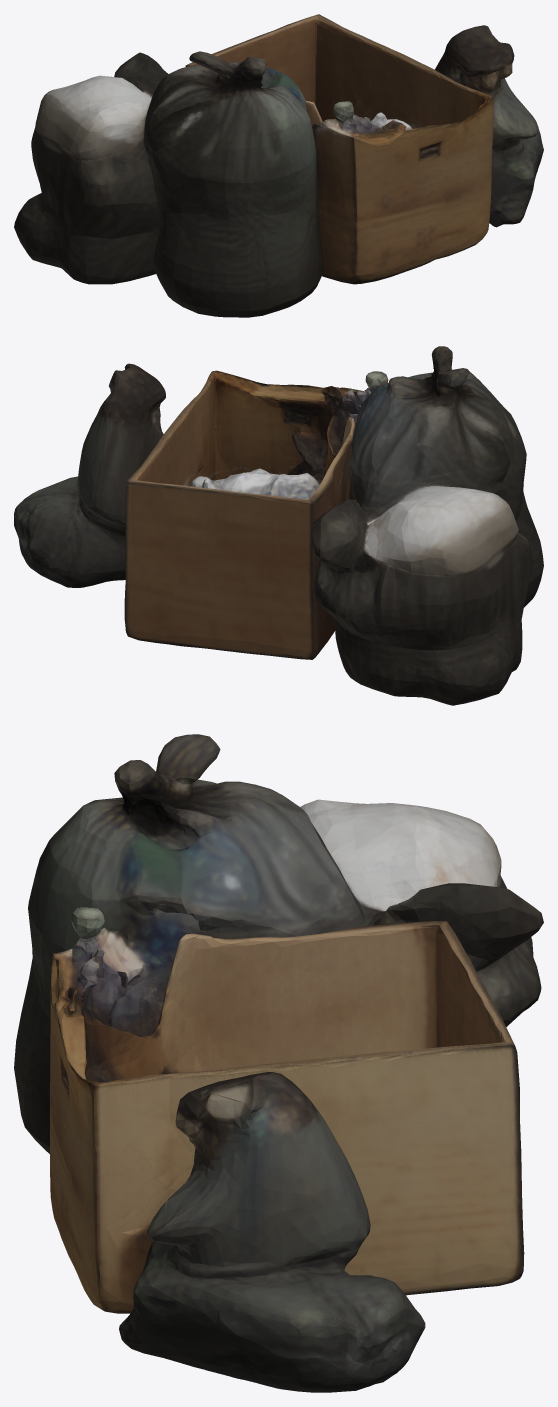
The picture shows the model from 3 angles, top to bottom: view 1: azimuth 30°, elevation 25°; view 2: azimuth 150°, elevation 25°; view 3: azimuth 270°, elevation 25°; orthographic projection. The views are drawn at different scales.
Parts seen in each view (by area): view 1: world.004; view 2: world.004; view 3: world.004.
Part boxes in pixels (x1=…): world.004: x1=14, y1=14, x2=543, y2=317; world.004: x1=14, y1=346, x2=543, y2=705; world.004: x1=14, y1=734, x2=543, y2=1392.
Bounding box in the file's own units: 99.82 × 47.54 × 58.29.
1 material, 1 textured.
